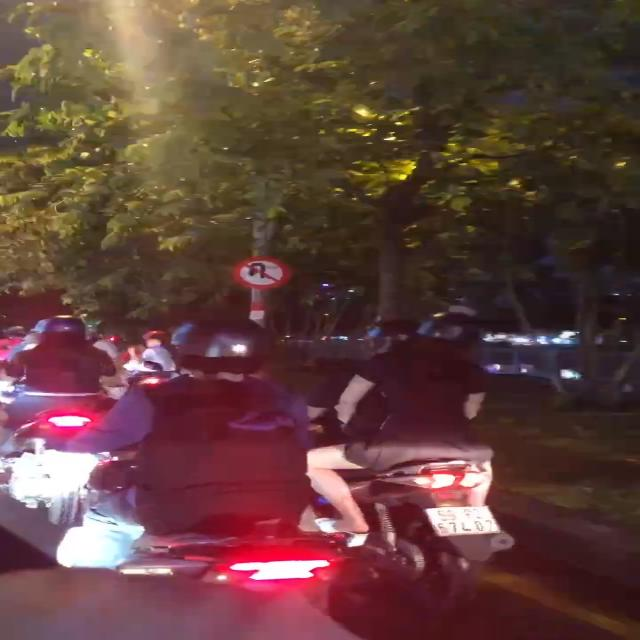Bien bao cam quay dau xe: (228, 255, 287, 291)
